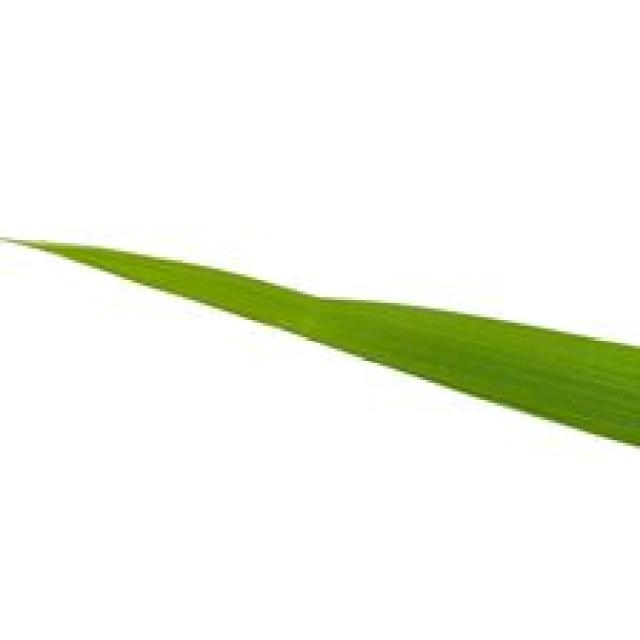Rice___Healthy_Rice_Plant: (3, 240, 637, 447)
